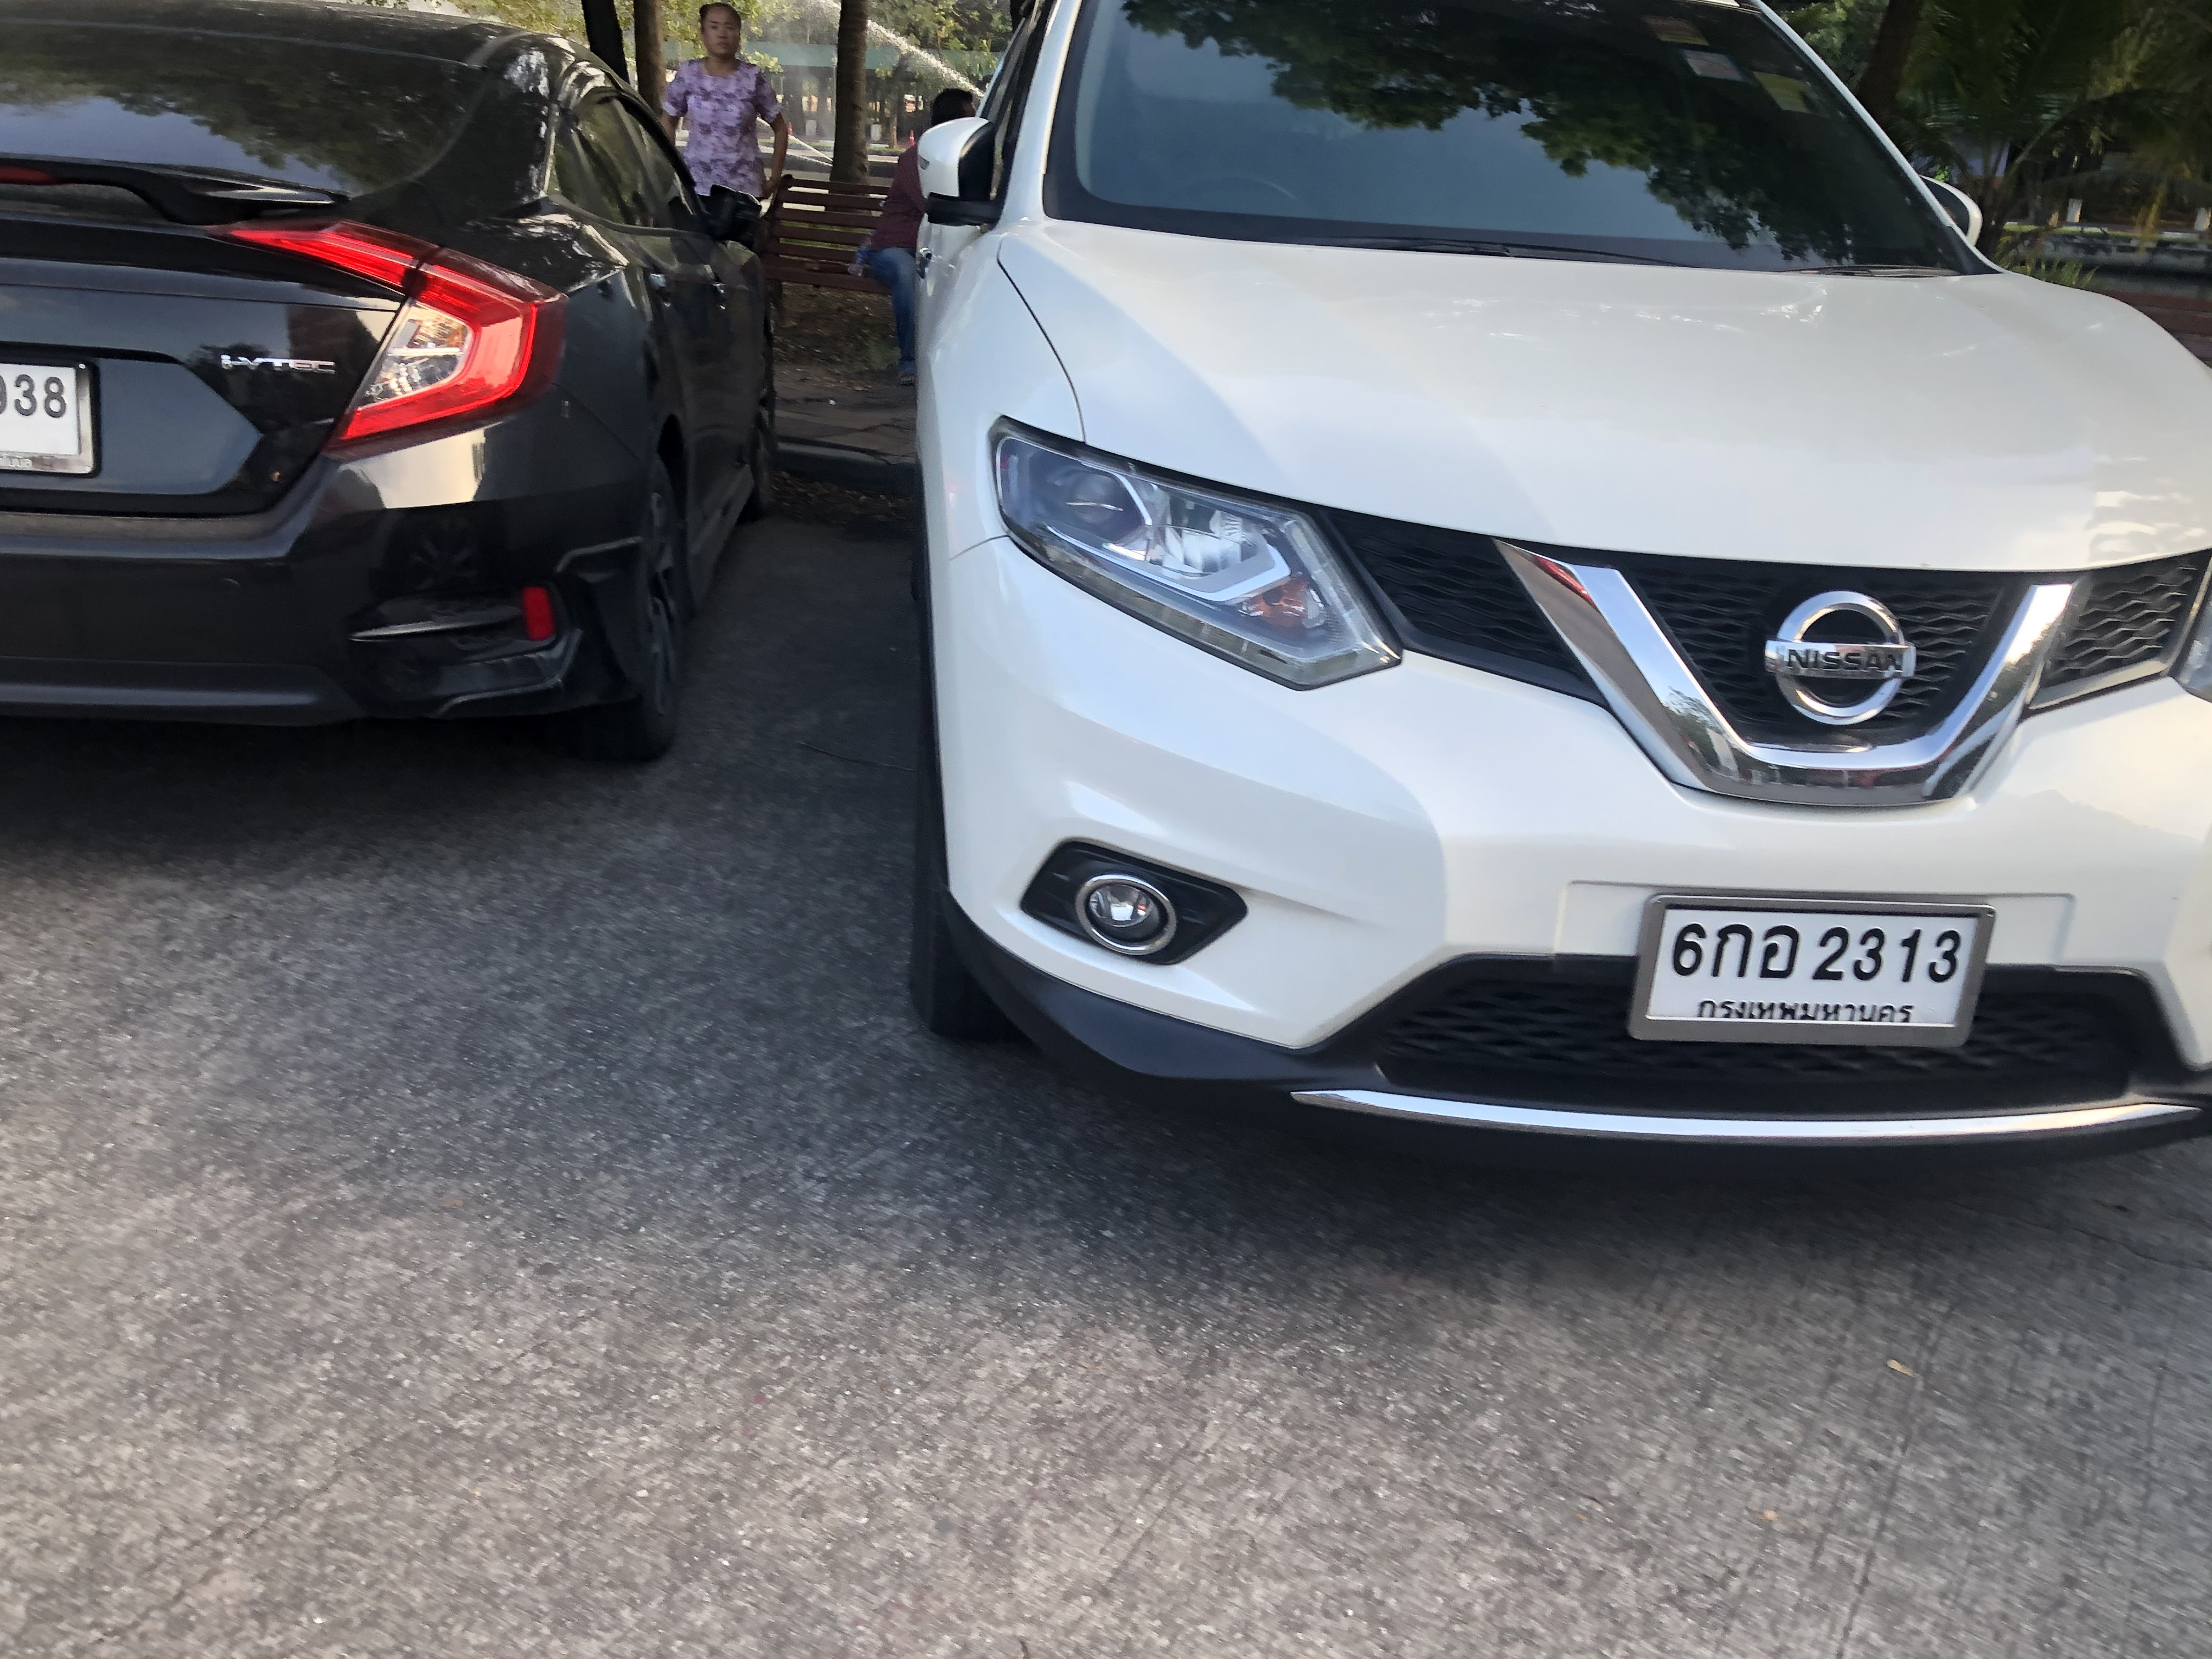in: (1644, 906, 1980, 1030)
out: (1627, 890, 1998, 1051)
